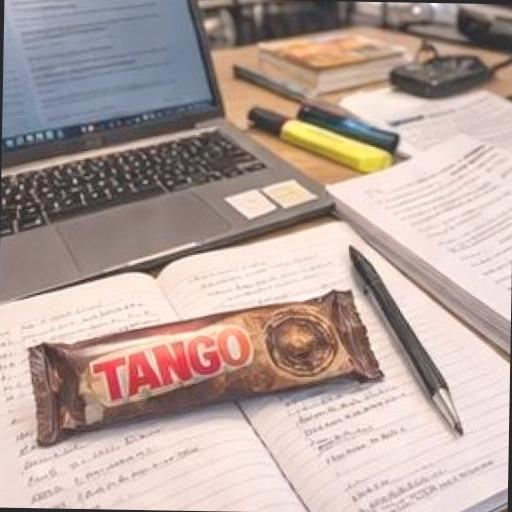tango: (4, 255, 416, 451)
